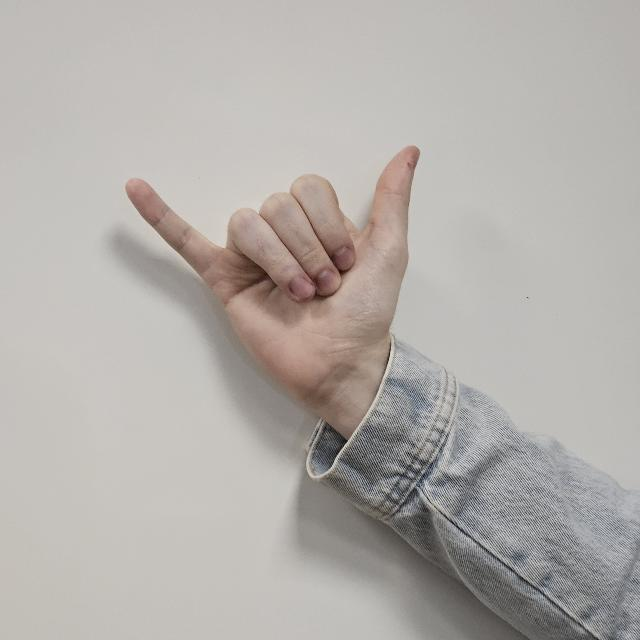Direita: (120, 140, 438, 402)
